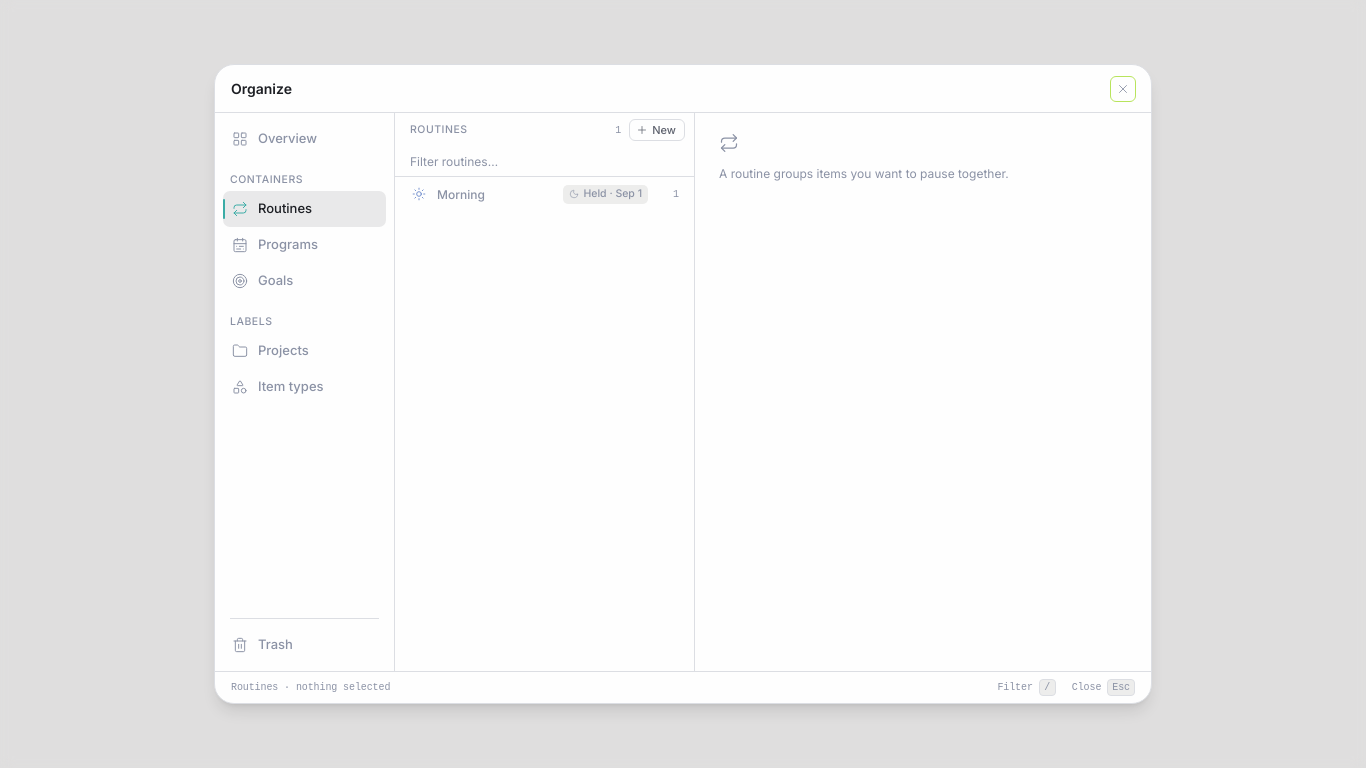
it: a routine a program is holding off › says who is overruling it, and when its items come back
Click the button with test id "routine-row". click: (461, 194)
box: [403,177,686,211]
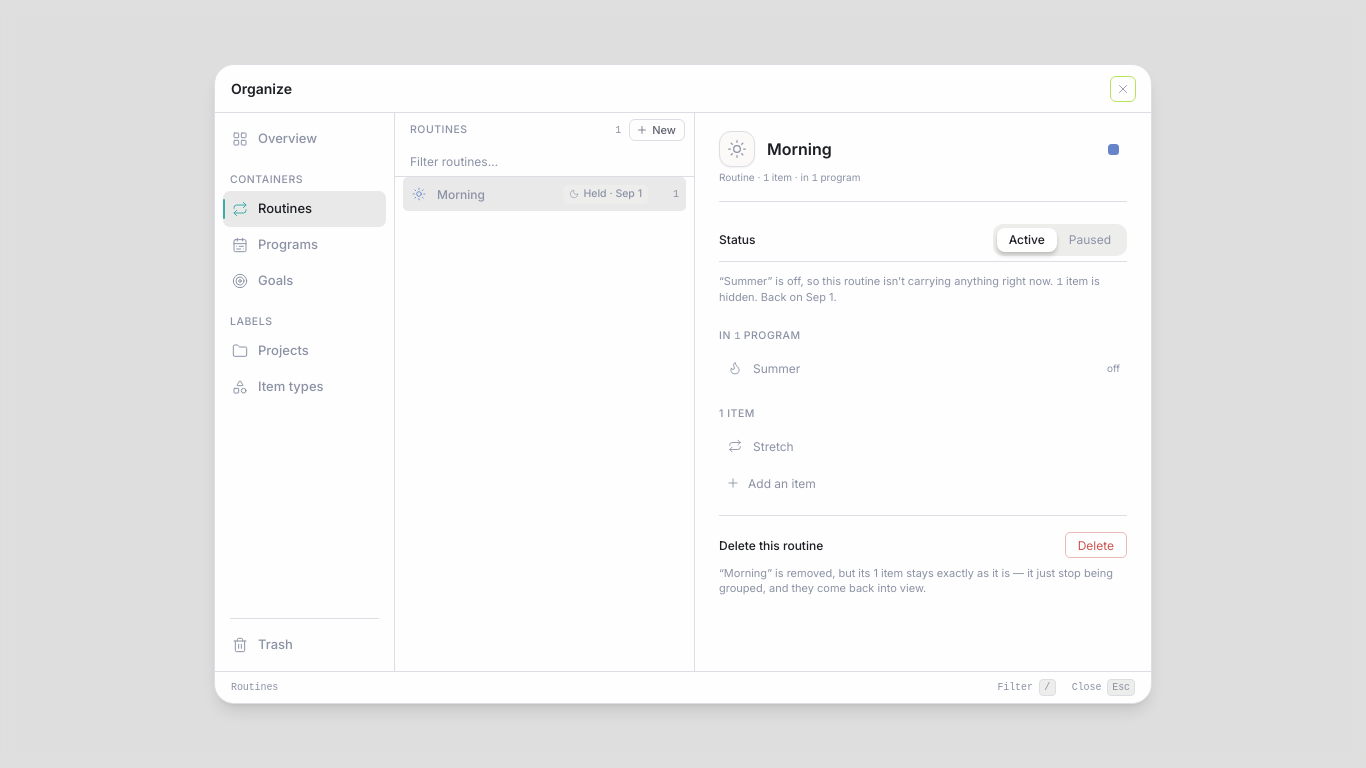
Check: the element with test id "routine-held-note" shows "“Summer” is off", box [719,274,1127,305]
Check: the element with test id "routine-held-note" shows "this routine isn’t carrying anything", box [767,274,1053,288]
Check: the element with test id "routine-held-note" shows "1 item is hidden", box [719,274,1127,305]
